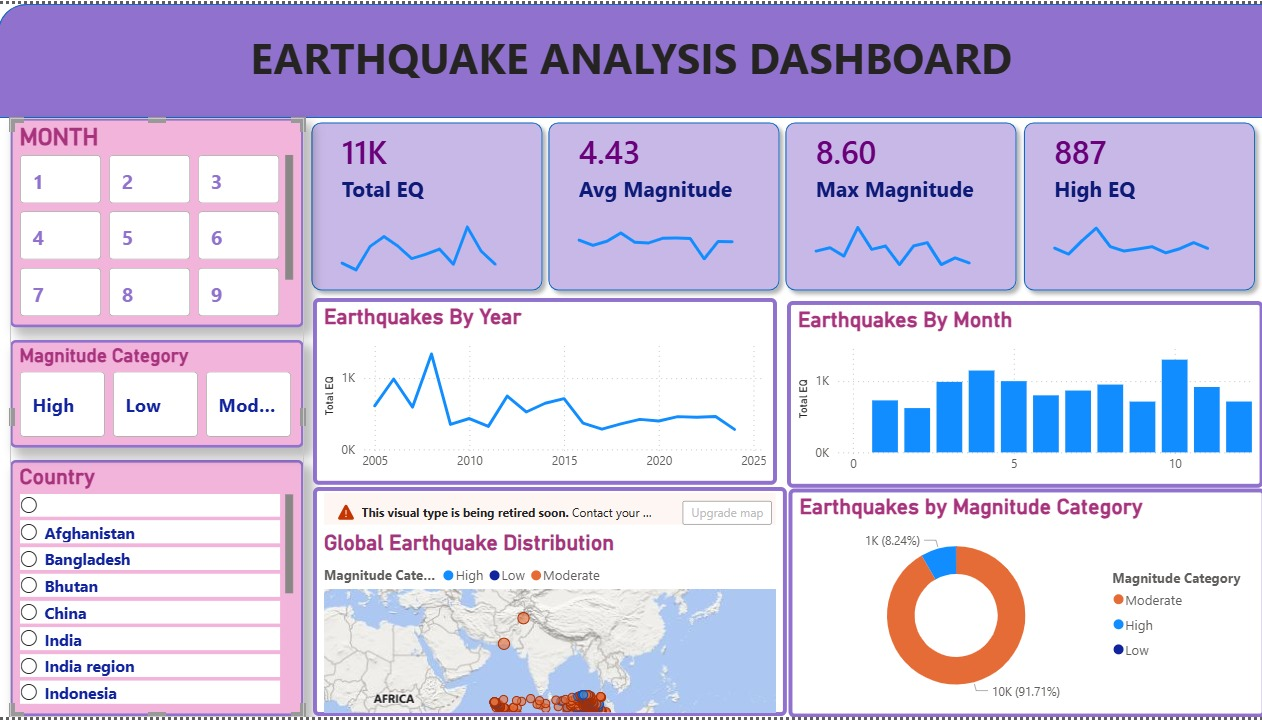

The dashboard page shown, as its layout file describes it:
{"tool":"powerbi","page":{"name":"Page 1","canvas":[1280,720],"ordinal":0},"visuals":[{"type":"shape","box":[0,0,1499.1,115.1],"z":0},{"type":"group","id":"g1","title":"Group 2","box":[308.2,100,251.9,198.4],"z":1000},{"type":"shape","box":[308.2,110.6,251.4,187.8],"z":1000,"group":"g1"},{"type":"shape","box":[547.4,110.6,251.4,187.8],"z":1000,"group":"g2"},{"type":"shape","box":[786.7,110.6,251.4,187.8],"z":1000,"group":"g3"},{"type":"shape","box":[1027.4,110.6,251.4,187.8],"z":1000,"group":"g8"},{"type":"textbox","box":[0,19.7,1279.5,95.4],"z":2000},{"type":"lineChart","fields":{"Category":["cleaned_earthquake_data.month"],"Y":["cleaned_earthquake_data.Total EQ"]},"box":[318.8,204.5,240.8,71.2],"z":2000,"group":"g4"},{"type":"lineChart","fields":{"Category":["cleaned_earthquake_data.month"],"Y":["cleaned_earthquake_data.Avg Magnitude"]},"box":[558,204.5,240.8,71.2],"z":2000,"group":"g5"},{"type":"lineChart","fields":{"Category":["cleaned_earthquake_data.month"],"Y":["cleaned_earthquake_data.Max Magnitude"]},"box":[797.3,204.5,240.8,71.2],"z":2000,"group":"g6"},{"type":"lineChart","fields":{"Category":["cleaned_earthquake_data.month"],"Y":["cleaned_earthquake_data.High EQ"]},"box":[1038,204.5,240.8,71.2],"z":2000,"group":"g7"},{"type":"cardVisual","fields":{"Data":["cleaned_earthquake_data.Total EQ"]},"box":[318.3,100,241.8,127.2],"z":3000,"group":"g1"},{"type":"group","id":"g2","title":"Group 2","box":[547.4,100,251.4,198.4],"z":3000},{"type":"cardVisual","fields":{"Data":["cleaned_earthquake_data.Avg Magnitude"]},"box":[557.5,100,241.8,127.2],"z":3000,"group":"g2"},{"type":"cardVisual","fields":{"Data":["cleaned_earthquake_data.Max Magnitude"]},"box":[796.8,100,241.8,127.2],"z":3000,"group":"g3"},{"type":"cardVisual","fields":{"Data":["cleaned_earthquake_data.High EQ"]},"box":[1037.5,100,241.8,127.2],"z":3000,"group":"g8"},{"type":"group","id":"g3","title":"Group 2","box":[786.7,100,251.4,198.4],"z":4000},{"type":"group","id":"g4","title":"Group 1","box":[318.8,204.5,240.8,71.2],"z":4000,"group":"g1"},{"type":"group","id":"g5","title":"Group 1","box":[558,204.5,240.8,71.2],"z":4000,"group":"g2"},{"type":"group","id":"g6","title":"Group 1","box":[797.3,204.5,240.8,71.2],"z":4000,"group":"g3"},{"type":"group","id":"g7","title":"Group 1","box":[1038,204.5,240.8,71.2],"z":4000,"group":"g8"},{"type":"group","id":"g8","title":"Group 2","box":[1027.4,100,251.4,198.4],"z":5000},{"type":"advancedSlicerVisual","title":"MONTH","fields":{"Values":["cleaned_earthquake_data.month"]},"box":[12.1,115.2,297,211.5],"z":6000,"group":"g9"},{"type":"listSlicer","fields":{"Values":["cleaned_earthquake_data.Country"]},"box":[12.1,461.1,297,258.7],"z":7000,"group":"g9"},{"type":"advancedSlicerVisual","fields":{"Values":["cleaned_earthquake_data.Magnitude Category"]},"box":[12.1,339.6,297,108.6],"z":8000,"group":"g9"},{"type":"group","id":"g9","title":"Group 3","box":[12.1,115.2,297,604.5],"z":8001},{"type":"lineChart","title":"Earthquakes By Year","fields":{"Category":["cleaned_earthquake_data.year"],"Y":["cleaned_earthquake_data.Total EQ"]},"box":[318.6,297.1,468.6,188.6],"z":8002},{"type":"columnChart","title":"Earthquakes By Month","fields":{"Category":["cleaned_earthquake_data.month"],"Y":["cleaned_earthquake_data.Total EQ"]},"box":[797.1,300,481.4,188.6],"z":8003},{"type":"map","title":"Global Earthquake Distribution","fields":{"Y":["cleaned_earthquake_data.latitude"],"X":["cleaned_earthquake_data.longitude"],"Series":["cleaned_earthquake_data.Magnitude Category"],"Size":["CountNonNull(cleaned_earthquake_data.mag)"]},"box":[318.6,488.6,478.6,231.4],"z":8004},{"type":"donutChart","title":"Earthquakes by Magnitude Category","fields":{"Category":["cleaned_earthquake_data.Magnitude Category"],"Y":["cleaned_earthquake_data.Total EQ"]},"box":[798,489,482,231],"z":8005}]}

Visuals, with their boxes in screenshot pixels (x1, y1, x2, y2), scaled from the page's 1280x720 canvas onto the 1262x726 screenshot:
shape: 0 0 1261 116
"Group 2" group: 304 101 552 301
shape: 304 112 552 301
shape: 540 112 788 301
shape: 776 112 1024 301
shape: 1013 112 1261 301
textbox: 0 20 1261 116
lineChart - cleaned_earthquake_data.month x cleaned_earthquake_data.Total EQ: 314 206 552 278
lineChart - cleaned_earthquake_data.month x cleaned_earthquake_data.Avg Magnitude: 550 206 788 278
lineChart - cleaned_earthquake_data.month x cleaned_earthquake_data.Max Magnitude: 786 206 1024 278
lineChart - cleaned_earthquake_data.month x cleaned_earthquake_data.High EQ: 1023 206 1261 278
cardVisual - cleaned_earthquake_data.Total EQ: 314 101 552 229
"Group 2" group: 540 101 788 301
cardVisual - cleaned_earthquake_data.Avg Magnitude: 550 101 788 229
cardVisual - cleaned_earthquake_data.Max Magnitude: 786 101 1024 229
cardVisual - cleaned_earthquake_data.High EQ: 1023 101 1261 229
"Group 2" group: 776 101 1024 301
"Group 1" group: 314 206 552 278
"Group 1" group: 550 206 788 278
"Group 1" group: 786 206 1024 278
"Group 1" group: 1023 206 1261 278
"Group 2" group: 1013 101 1261 301
"MONTH" advancedSlicerVisual: 12 116 305 329
listSlicer - cleaned_earthquake_data.Country: 12 465 305 725
advancedSlicerVisual - cleaned_earthquake_data.Magnitude Category: 12 342 305 452
"Group 3" group: 12 116 305 725
"Earthquakes By Year" lineChart: 314 300 776 490
"Earthquakes By Month" columnChart: 786 302 1261 493
"Global Earthquake Distribution" map: 314 493 786 725
"Earthquakes by Magnitude Category" donutChart: 787 493 1261 725
